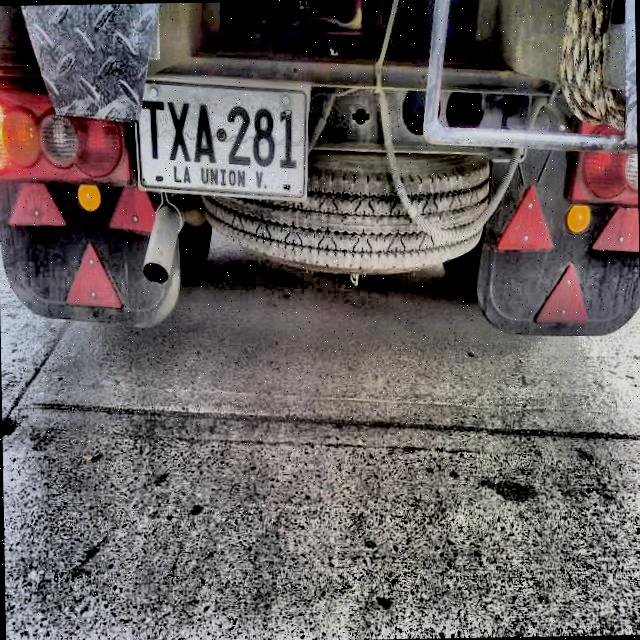plate: (137, 82, 305, 198)
